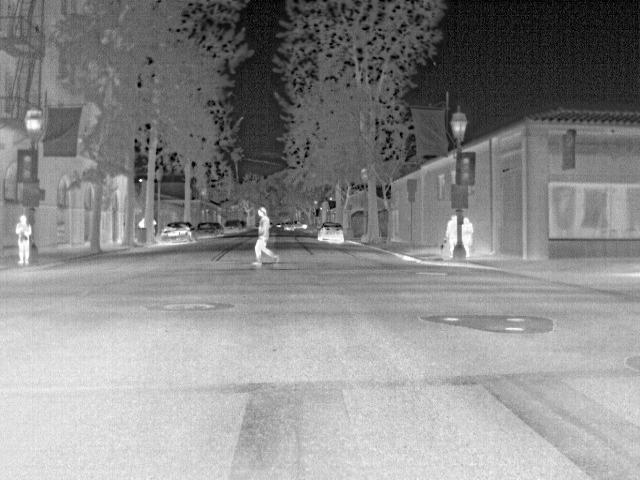car: (158, 221, 193, 246), (317, 220, 347, 246), (195, 220, 218, 238), (223, 218, 242, 237)
person: (249, 205, 281, 268), (13, 214, 35, 265), (459, 214, 476, 258), (444, 213, 458, 259)
